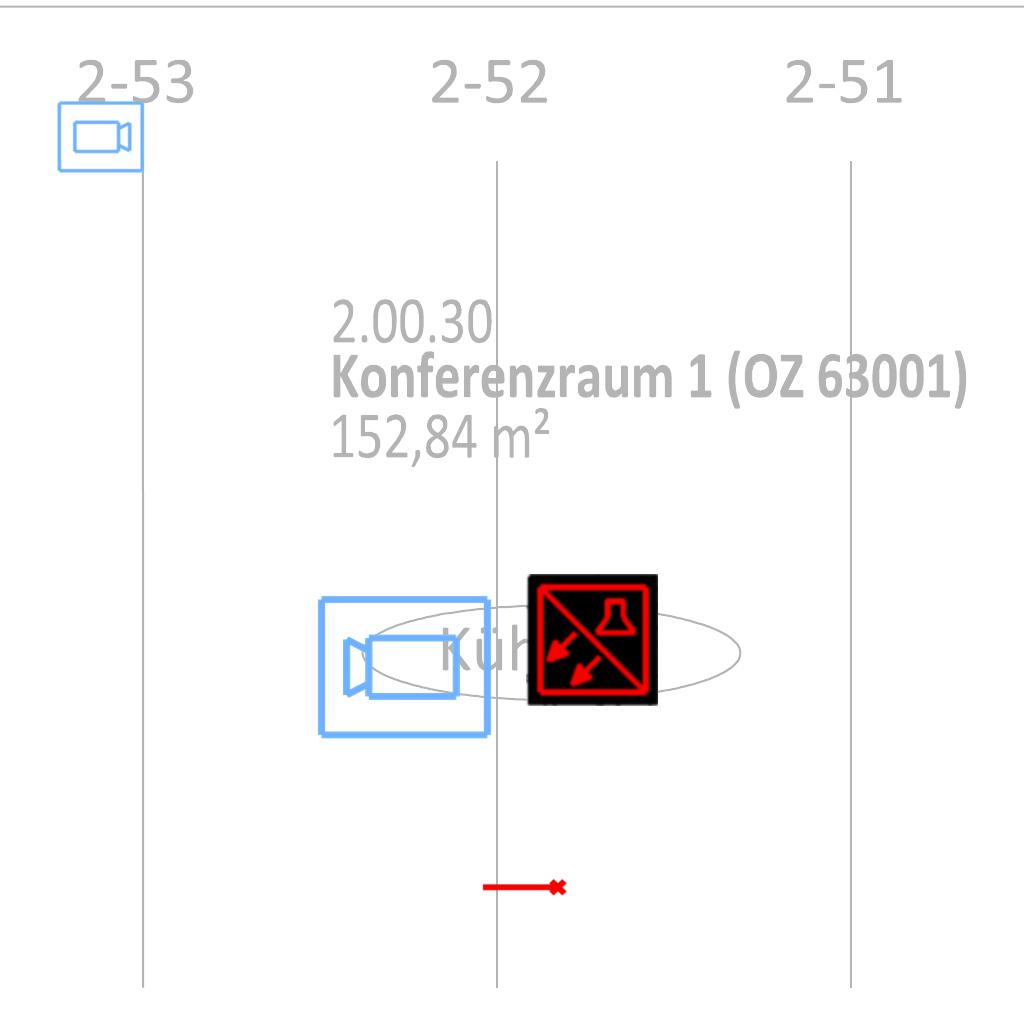ASR_Ansaugoeffnung: (480, 877, 568, 900)
KFO_Kamera_mit_Festobjektiv: (314, 589, 496, 743), (55, 99, 146, 176)
OKW_Multisensormelder_(Kombination_optischer_Rauch-Kahlenmonoxid_Waerme-Melder): (526, 574, 658, 706)
